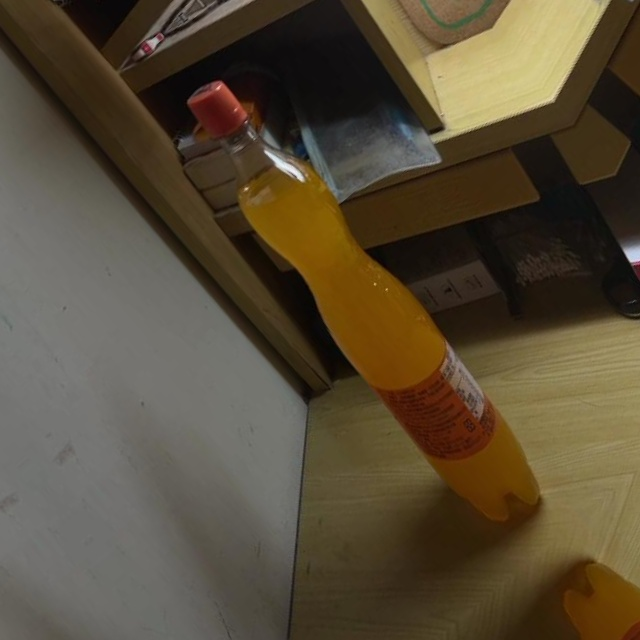Fanta: (150, 66, 573, 543)
